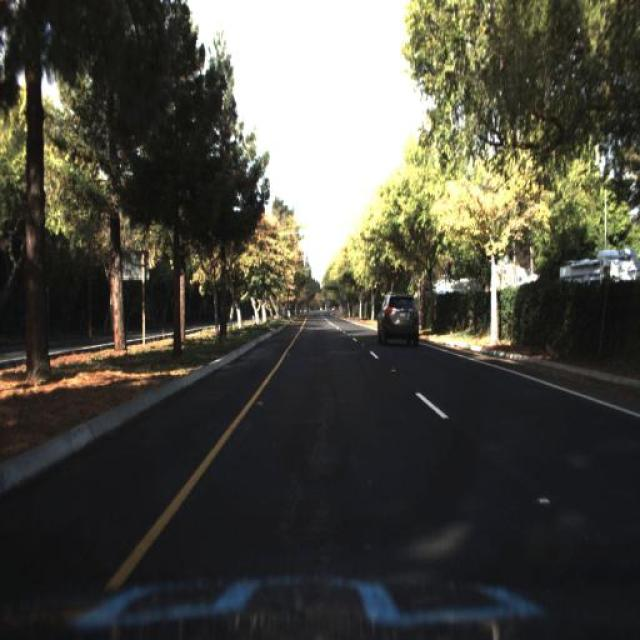car: (375, 289, 420, 350)
